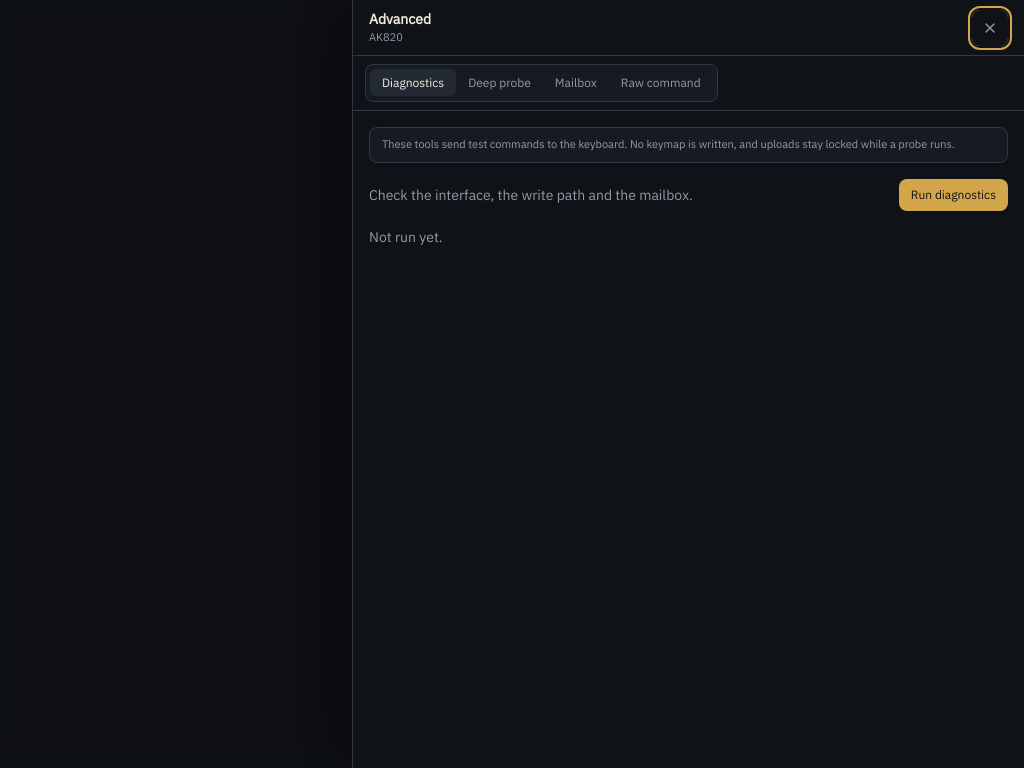
Scenario: AdvancedDrawer › runs diagnostics and shows the checks
Click the button "Run diagnostics": (953, 195) [899,179,1008,211]
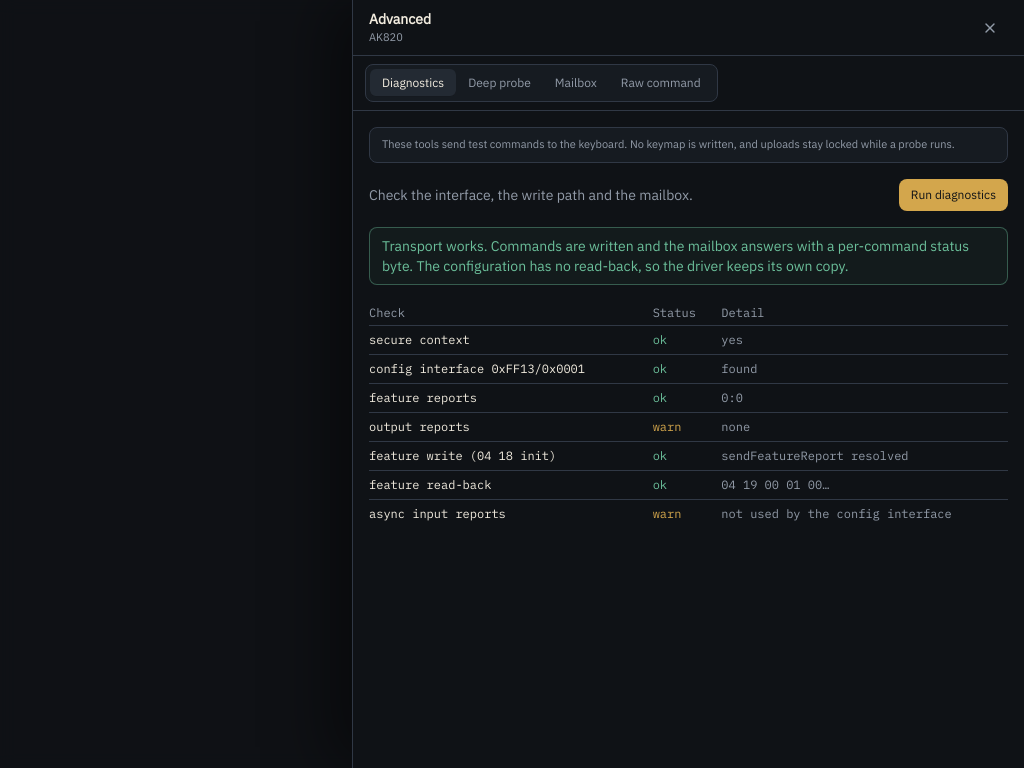
Now the text "Transport works. Commands are written" is shown, box [382,237,969,275]
Now the text "feature write (04 18 init)" is shown, box [369,441,653,470]
Now the text "feature reports" is shown, box [369,383,653,412]
